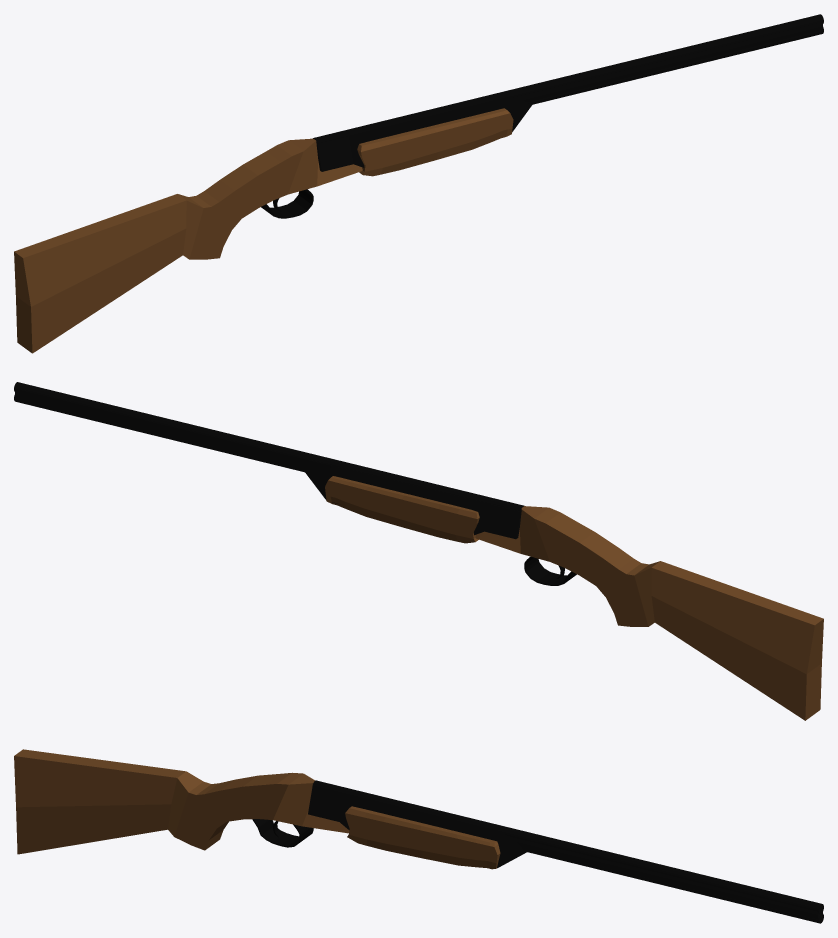
The model's file is shotgun.glb.
3 renders of one model, top to bottom at view 1: azimuth 30°, elevation 25°; view 2: azimuth 150°, elevation 25°; view 3: azimuth 330°, elevation 25°, orthographic.
Visible parts, largest first — view 1: Cube, Cube.001, Cube.004, Cube.002; view 2: Cube, Cube.001, Cube.004, Cube.002; view 3: Cube, Cube.001, Cube.004, Cube.002.
Boxes of the visible parts, box(x1,y1,x2,y2) form: Cube: box(14, 138, 362, 353); Cube.001: box(313, 14, 823, 171); Cube.004: box(357, 108, 513, 176); Cube.002: box(261, 189, 313, 218); Cube: box(475, 506, 823, 720); Cube.001: box(14, 382, 524, 539); Cube.004: box(325, 476, 479, 543); Cube.002: box(524, 556, 576, 585); Cube: box(14, 749, 349, 854); Cube.001: box(308, 780, 823, 923); Cube.004: box(345, 806, 500, 869); Cube.002: box(252, 819, 313, 847).
Bounding box in the file's own units: 10.98 × 1.82 × 0.3667.
4 materials, 4 textured.
